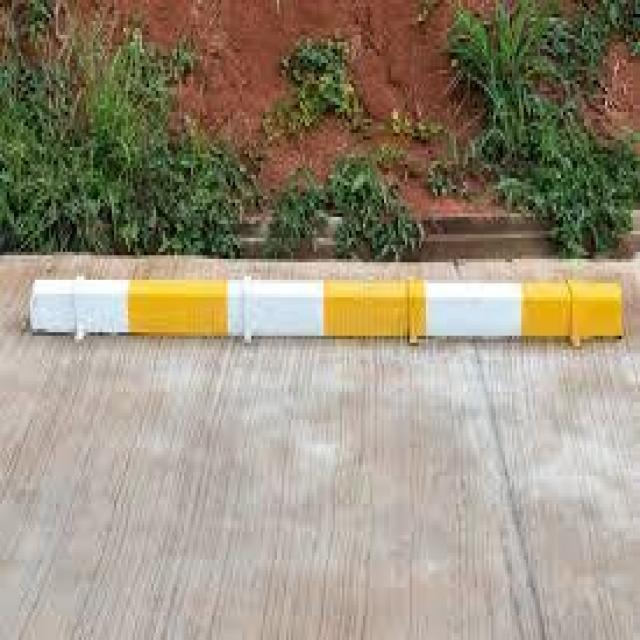curb: (25, 284, 640, 341)
